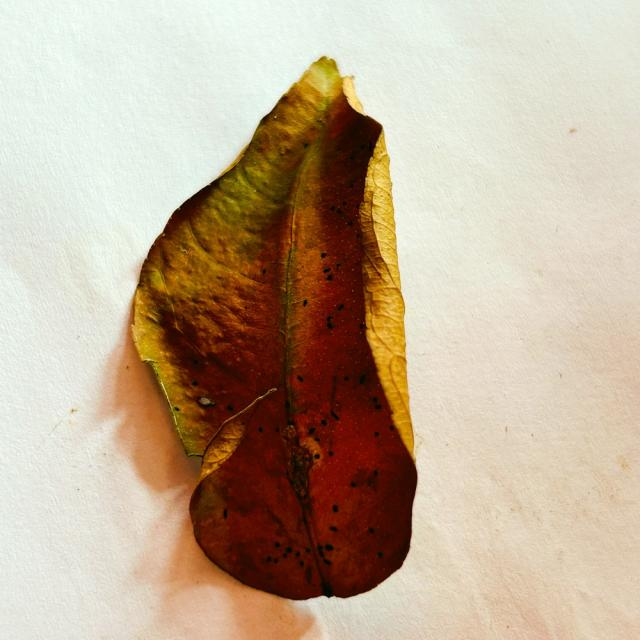DryLeaf_Lemon: (130, 57, 417, 599)
